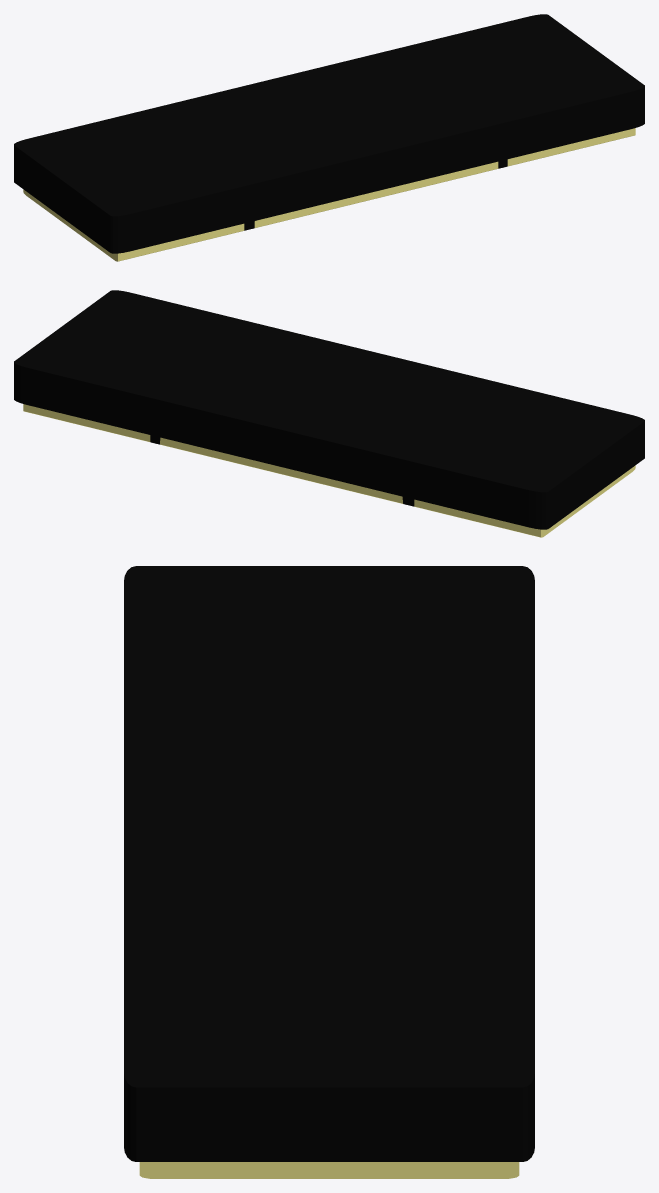
Rendered from MDL_OfficeLight.fbx.
3 renders of one model, top to bottom at view 1: azimuth 30°, elevation 25°; view 2: azimuth 150°, elevation 25°; view 3: azimuth 270°, elevation 25°, orthographic. The views are drawn at different scales.
Visible parts, largest first — view 1: Light; view 2: Light; view 3: Light.
Part boxes in pixels (x1,y1,x2,y2): Light: [14, 14, 644, 261]; Light: [14, 290, 644, 537]; Light: [124, 566, 534, 1178].
Bounding box in the file's own units: 150 × 13.42 × 50.
